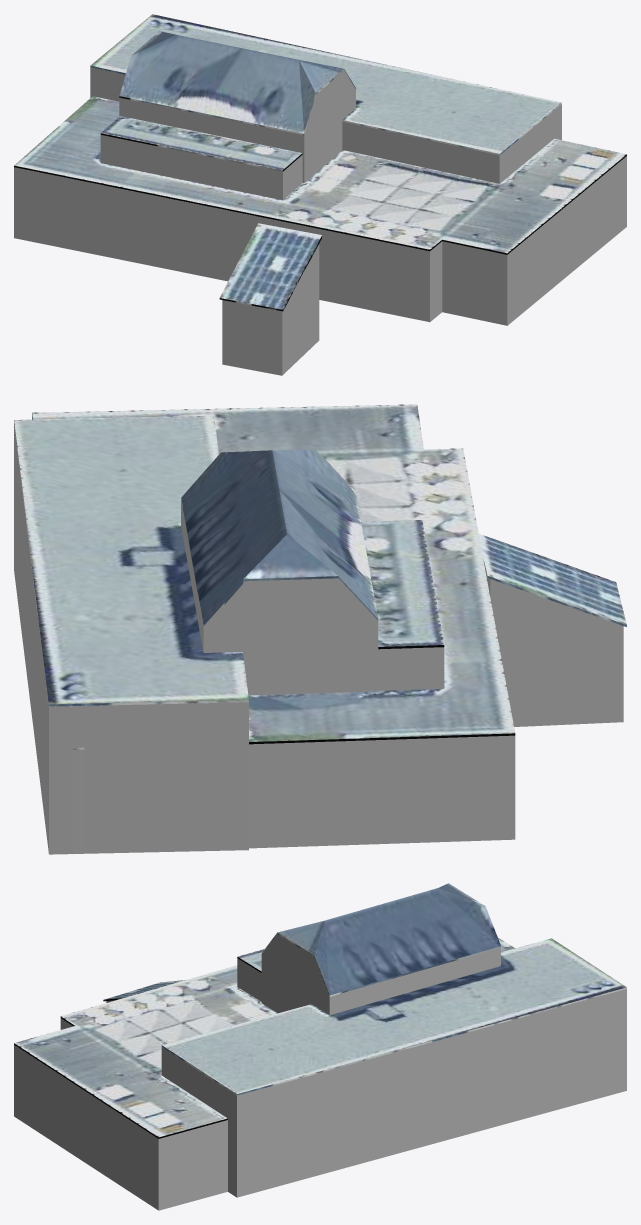
The picture shows the model from 3 angles, top to bottom: view 1: azimuth 30°, elevation 25°; view 2: azimuth 150°, elevation 25°; view 3: azimuth 270°, elevation 25°; orthographic projection. The views are drawn at different scales.
Bounding box in the file's own units: 64.97 × 72.39 × 27.2.
Materials: 2 (1 with a texture image).
